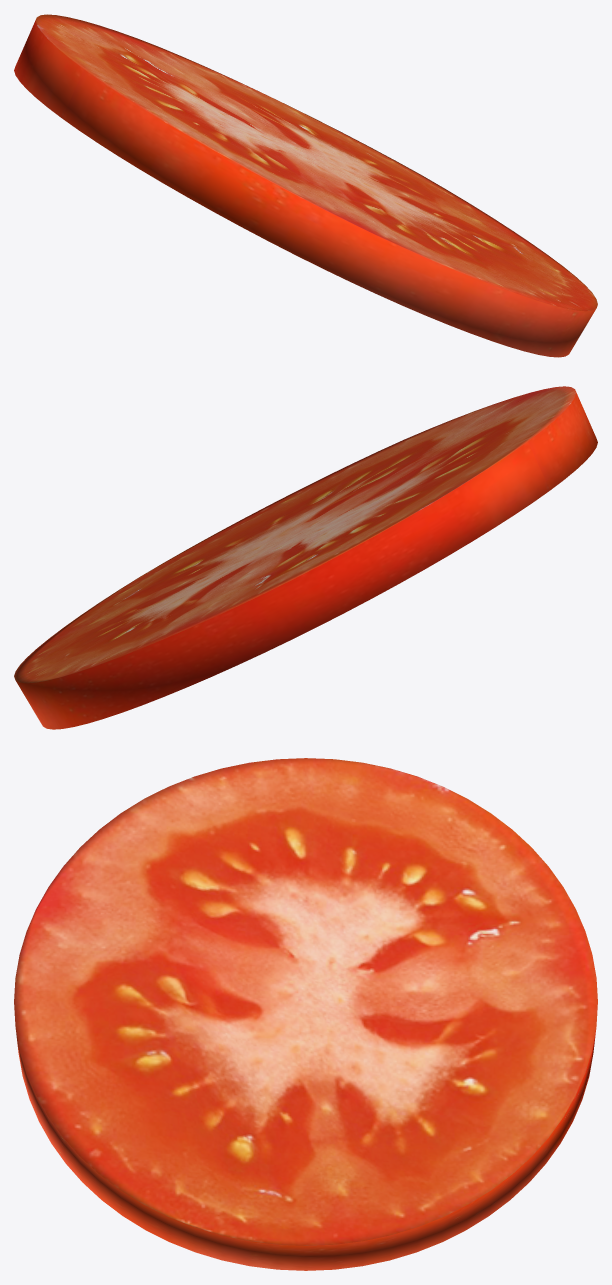
Rendered from tomato_inside.glb.
3 renders of one model, top to bottom at view 1: azimuth 30°, elevation 25°; view 2: azimuth 150°, elevation 25°; view 3: azimuth 270°, elevation 25°, orthographic. The views are drawn at different scales.
Parts seen in each view (by area): view 1: Tomato slice.001; view 2: Tomato slice.001; view 3: Tomato slice.001.
Part boxes in pixels (bbox=[...]): Tomato slice.001: bbox=[14, 14, 597, 357]; Tomato slice.001: bbox=[14, 386, 597, 729]; Tomato slice.001: bbox=[14, 758, 597, 1270].
Bounding box in the file's own units: 0.05 × 0.0334 × 0.0561.
1 material, 1 textured.
